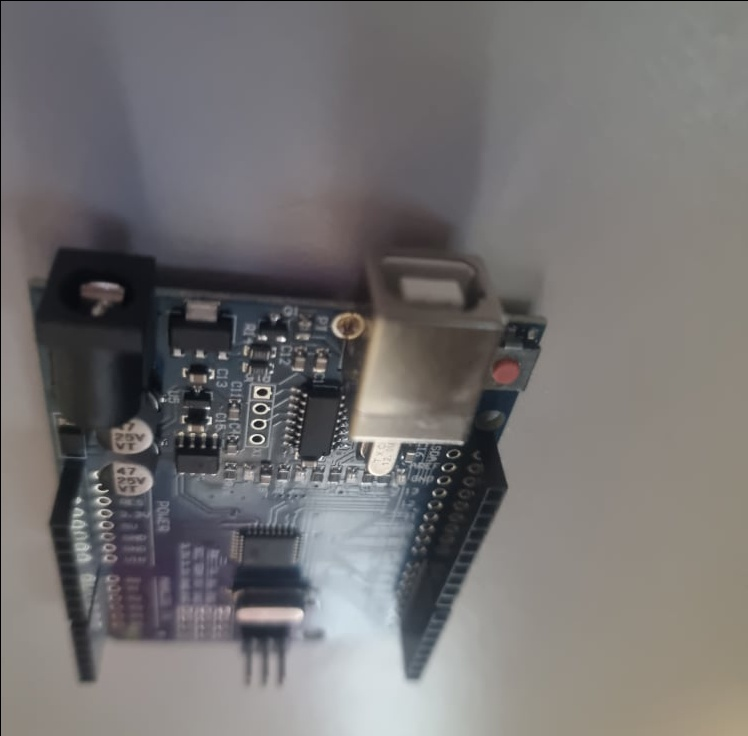UNO R3: (21, 233, 549, 684)
